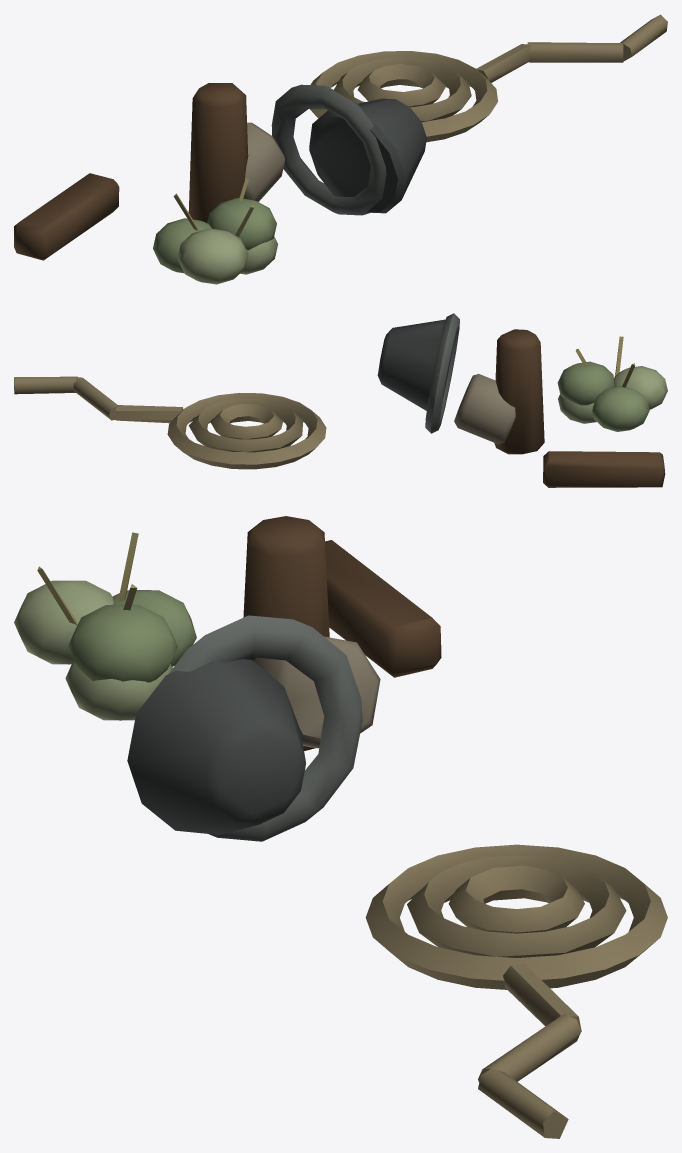
Rendered from shift_bell_b_lod1.glb.
3 views of the same model, one above another, from view 1: azimuth 30°, elevation 25°; view 2: azimuth 150°, elevation 25°; view 3: azimuth 270°, elevation 25° (orthographic). The views are drawn at different scales.
Visible parts, largest first — view 1: Surface.001; view 2: Surface.001; view 3: Surface.001.
Boxes of the visible parts, x1,y1,x2,y2 form: Surface.001: [14, 14, 667, 284]; Surface.001: [14, 313, 667, 487]; Surface.001: [14, 516, 667, 1138].
Size of the model in its own units: 5.07 by 0.9792 by 2.55.
